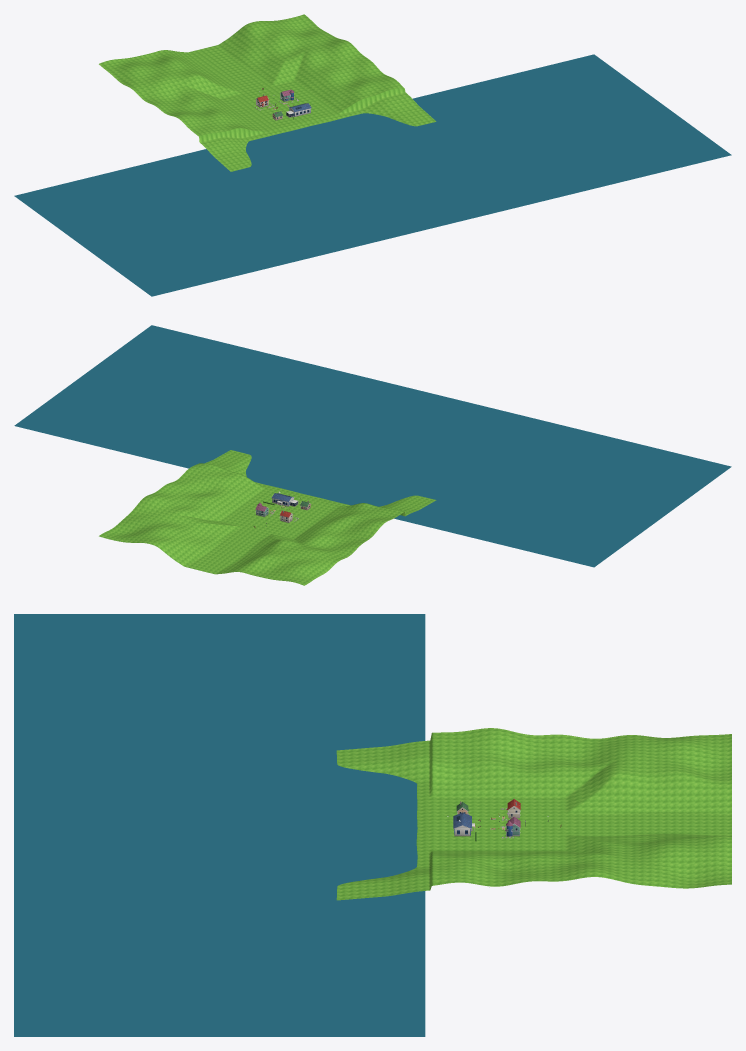
Rendered from PalletTown.glb.
3 views of the same model, one above another, from view 1: azimuth 30°, elevation 25°; view 2: azimuth 150°, elevation 25°; view 3: azimuth 270°, elevation 25° (orthographic). The views are drawn at different scales.
Parts seen in each view (by area): view 1: Sea, Terrain; view 2: Sea, Terrain; view 3: Sea, Terrain.
Boxes of the visible parts, x1=… form: Sea: x1=14, y1=54, x2=731, y2=296; Terrain: x1=99, y1=14, x2=436, y2=171; Sea: x1=14, y1=325, x2=731, y2=567; Terrain: x1=99, y1=450, x2=436, y2=585; Sea: x1=14, y1=614, x2=425, y2=1036; Terrain: x1=336, y1=728, x2=731, y2=900.
Size of the model in its own units: 620 by 36.01 by 445.
Materials: 32 (25 with a texture image).
